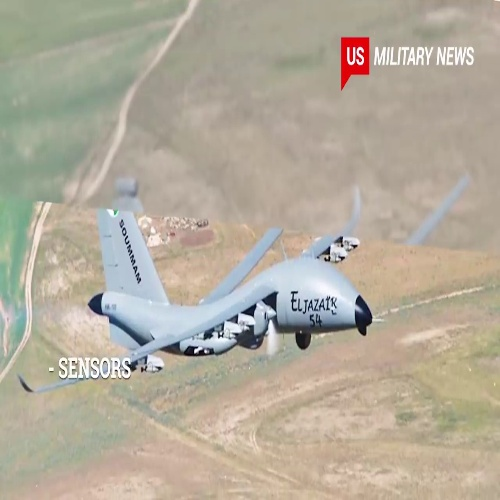uav13: (17, 207, 378, 394)
